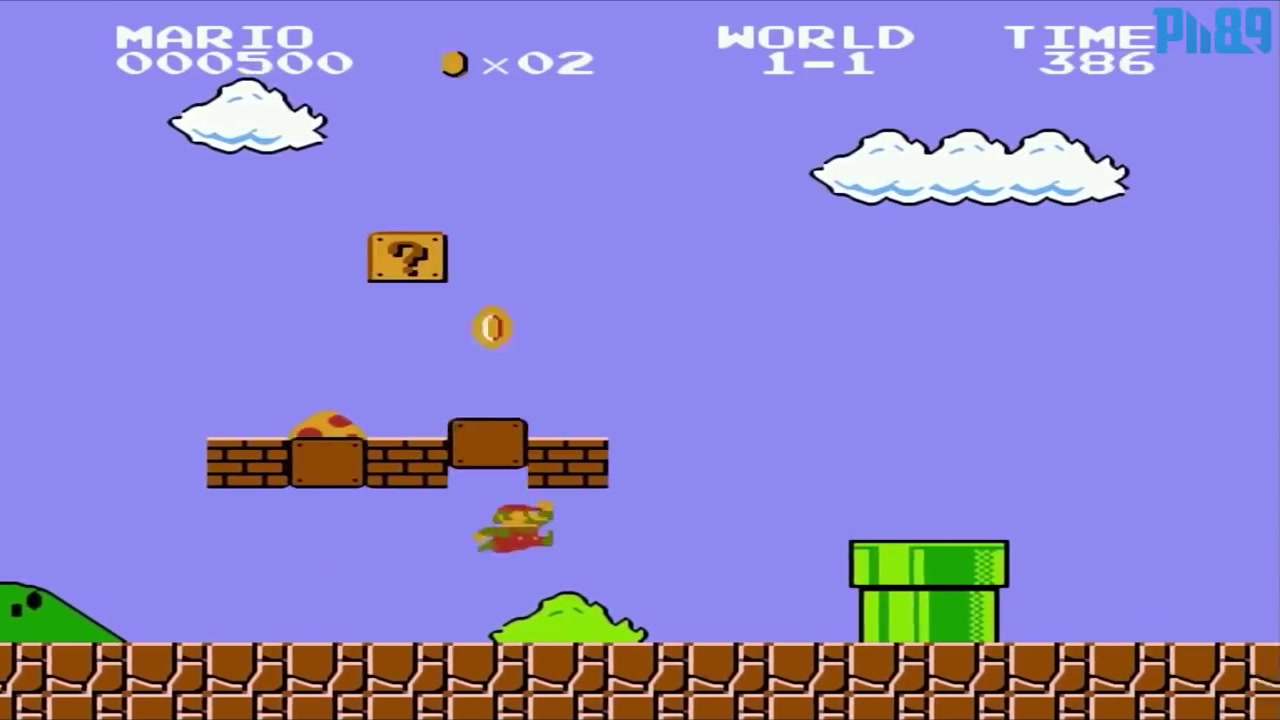mario: (466, 497, 564, 557)
